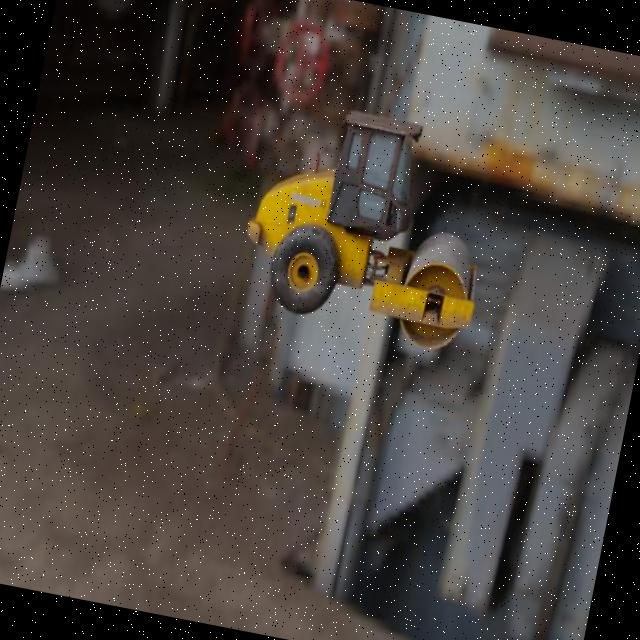Roller: (231, 94, 506, 357)
